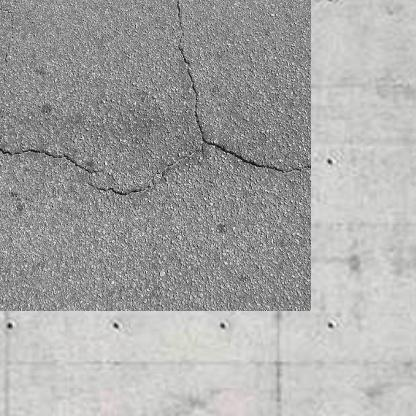Cracks: (0, 0, 288, 183)
